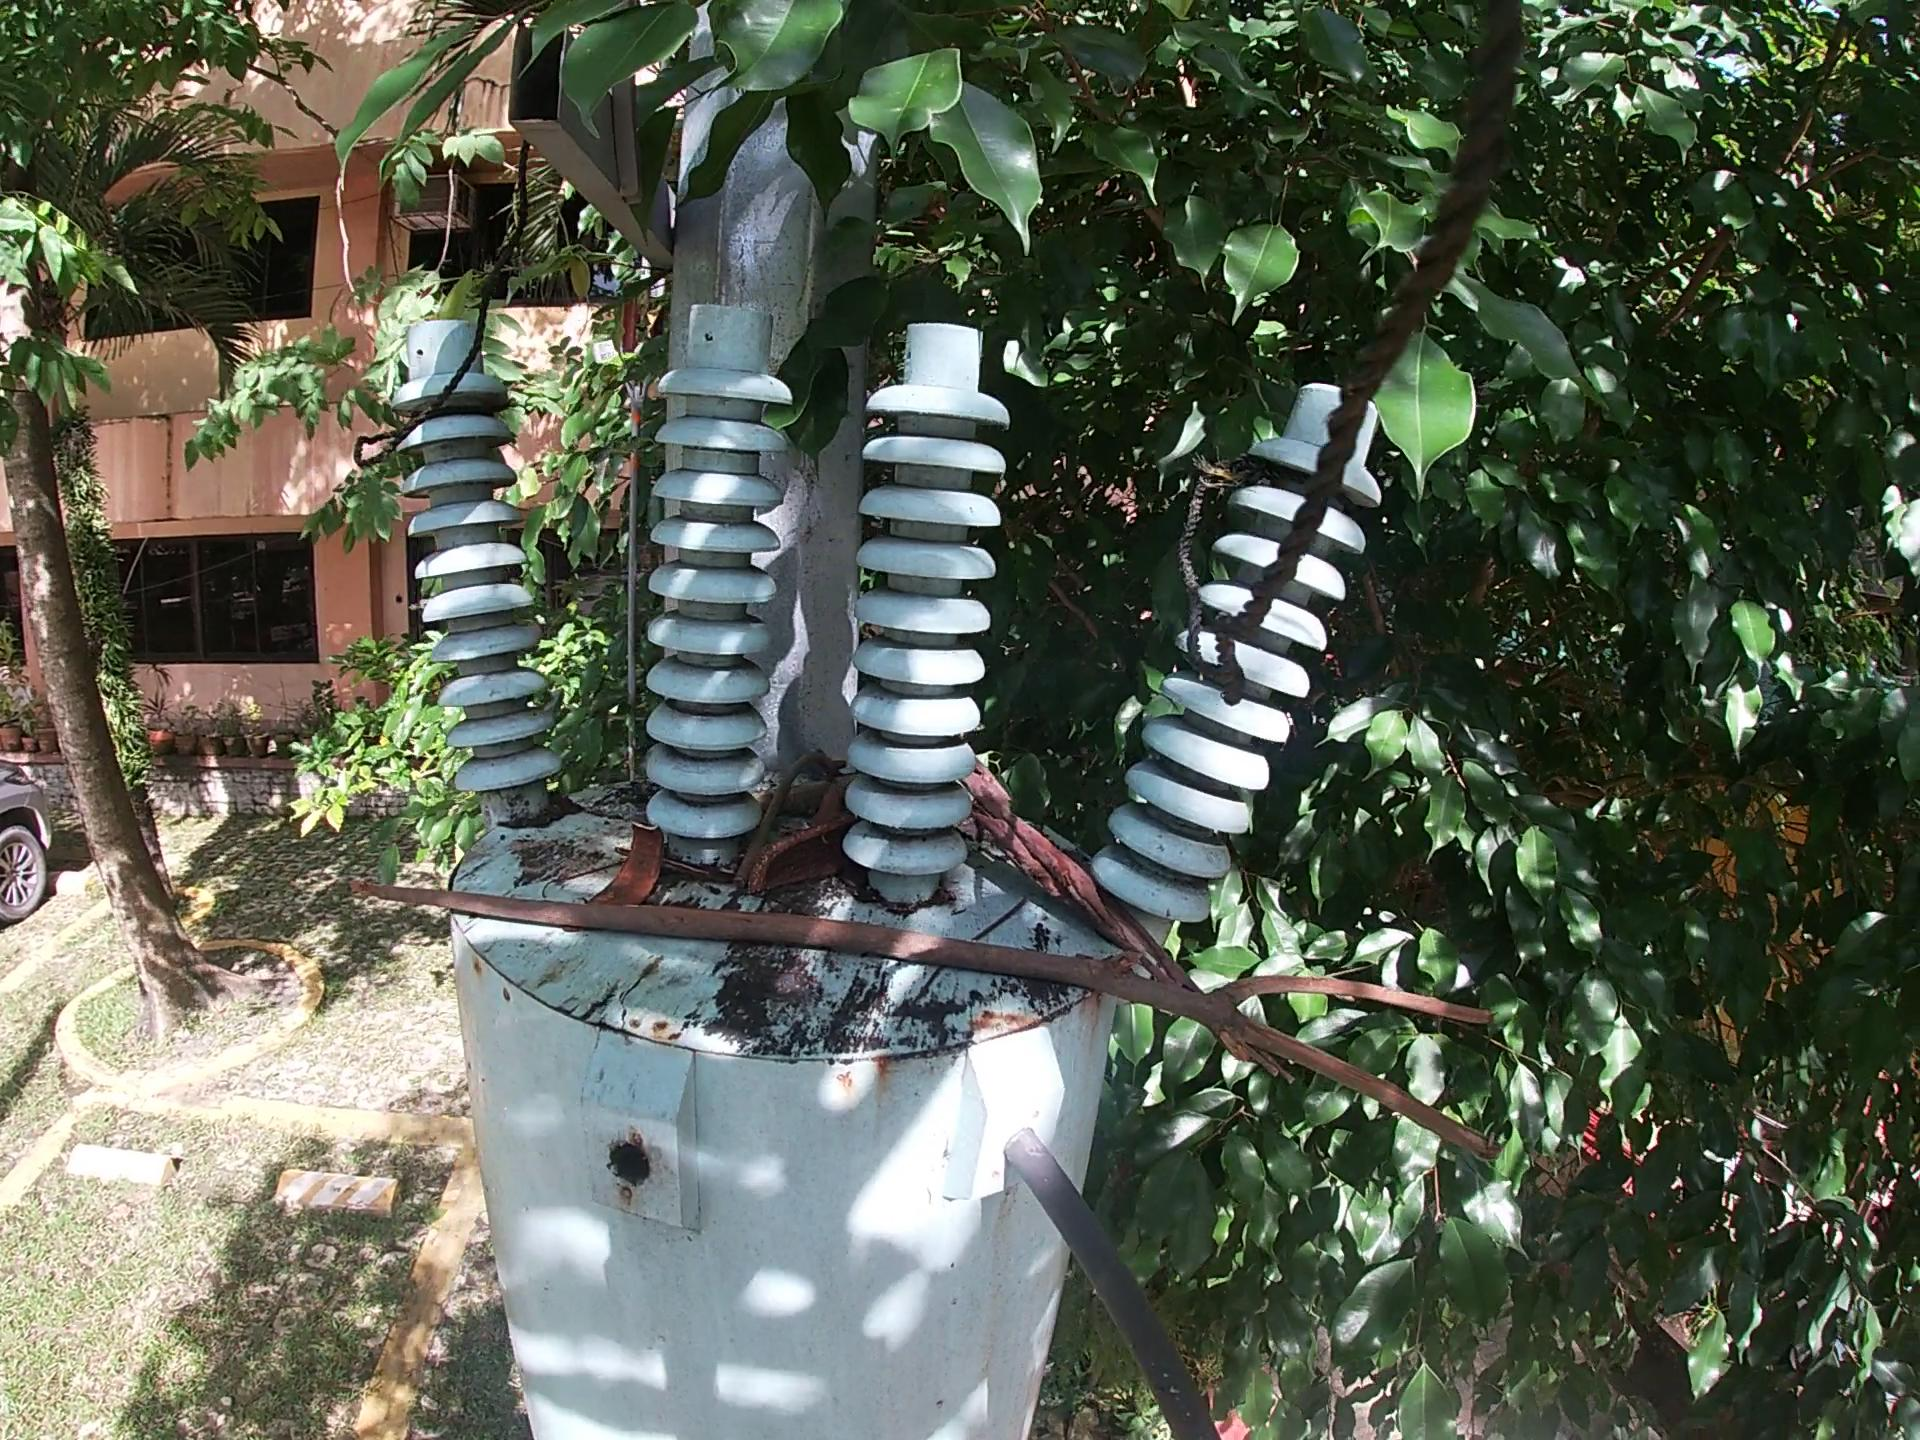mahogany fruit: (745, 817, 863, 903), (585, 818, 674, 912)
tree branch: (330, 865, 1509, 1171), (958, 759, 1290, 1091), (726, 749, 850, 895)
